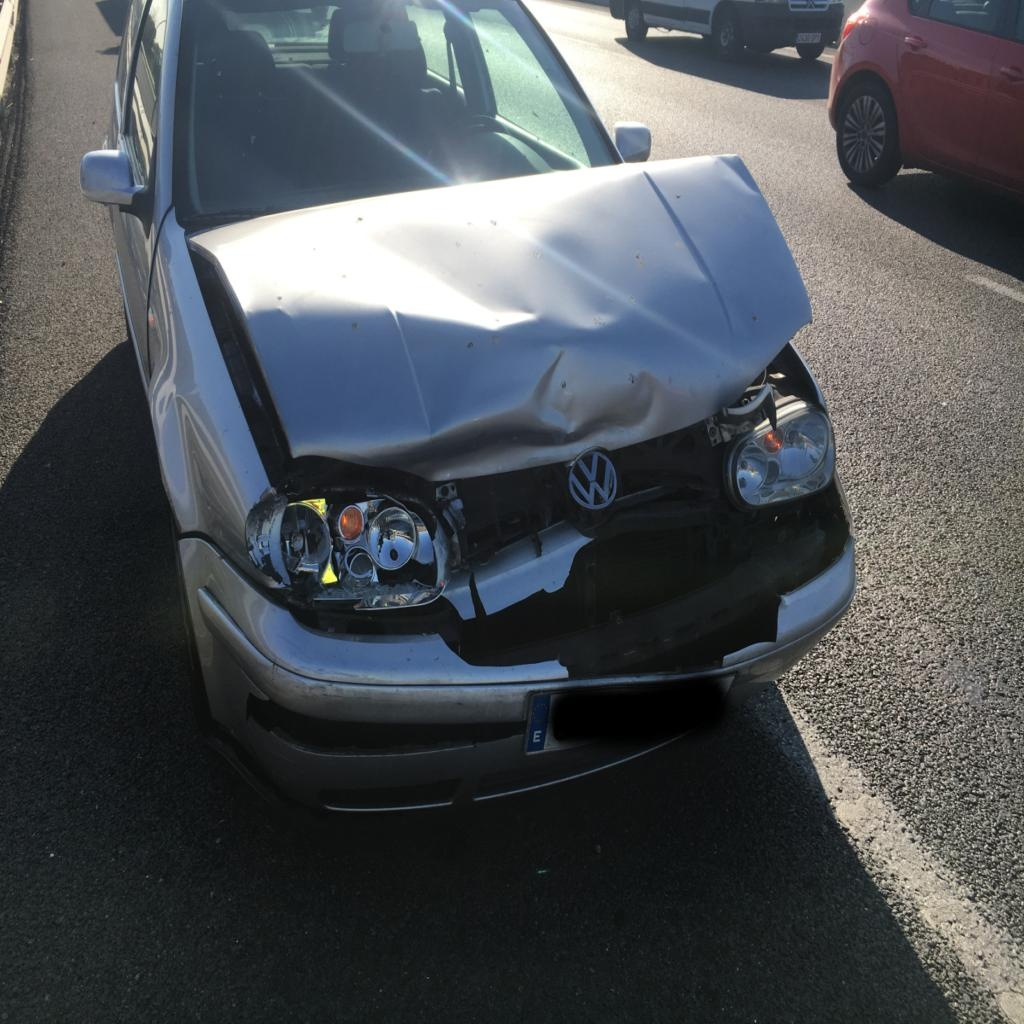Smashed: (417, 275, 850, 721)
